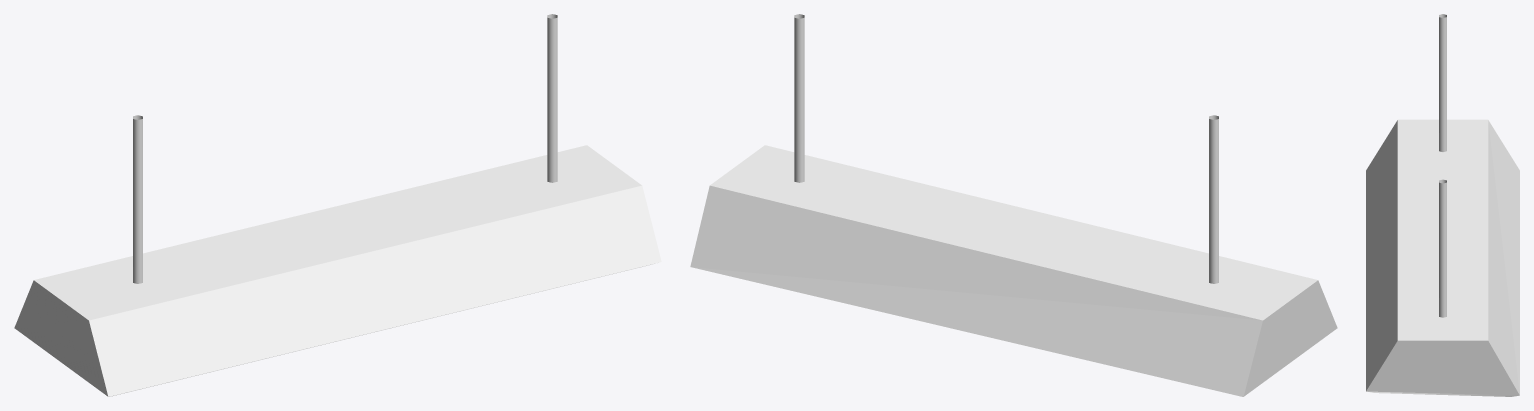
Rendered from deng.FBX.
The picture shows the model from 3 angles, left to right: view 1: azimuth 30°, elevation 25°; view 2: azimuth 150°, elevation 25°; view 3: azimuth 270°, elevation 25°; orthographic projection. The views are drawn at different scales.
Visible parts, largest first — view 1: Plane001; view 2: Plane001; view 3: Plane001.
Part boxes in pixels (<box>): Plane001: <box>14,14,661,396</box>; Plane001: <box>690,14,1337,396</box>; Plane001: <box>1366,14,1519,396</box>.
Size of the model in its own units: 0.8675 by 0.3543 by 0.2555.
